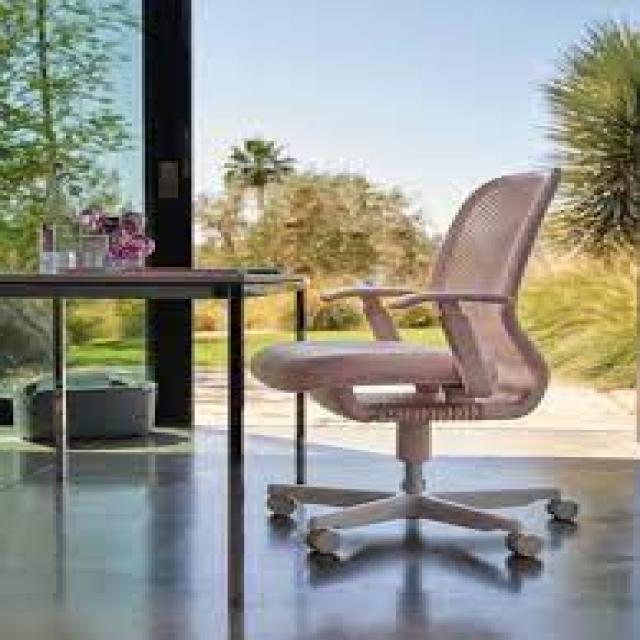chair: (184, 144, 640, 622)
